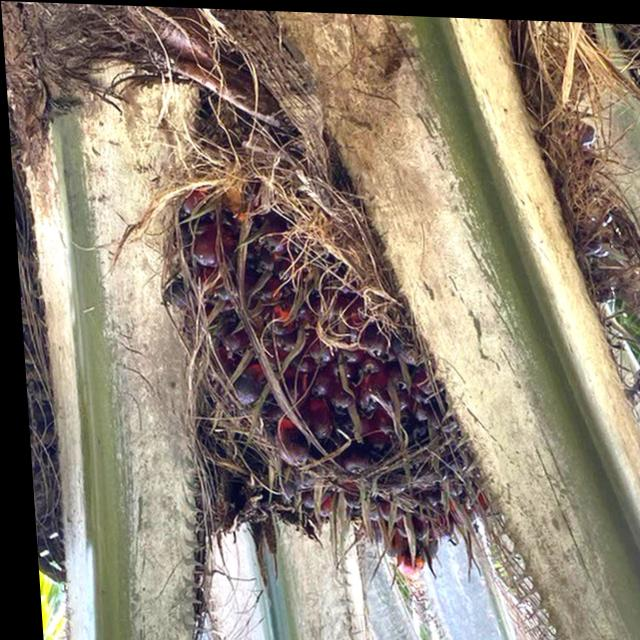ripe: (170, 198, 456, 575)
